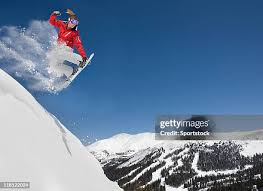snowboard: (62, 51, 97, 87)
